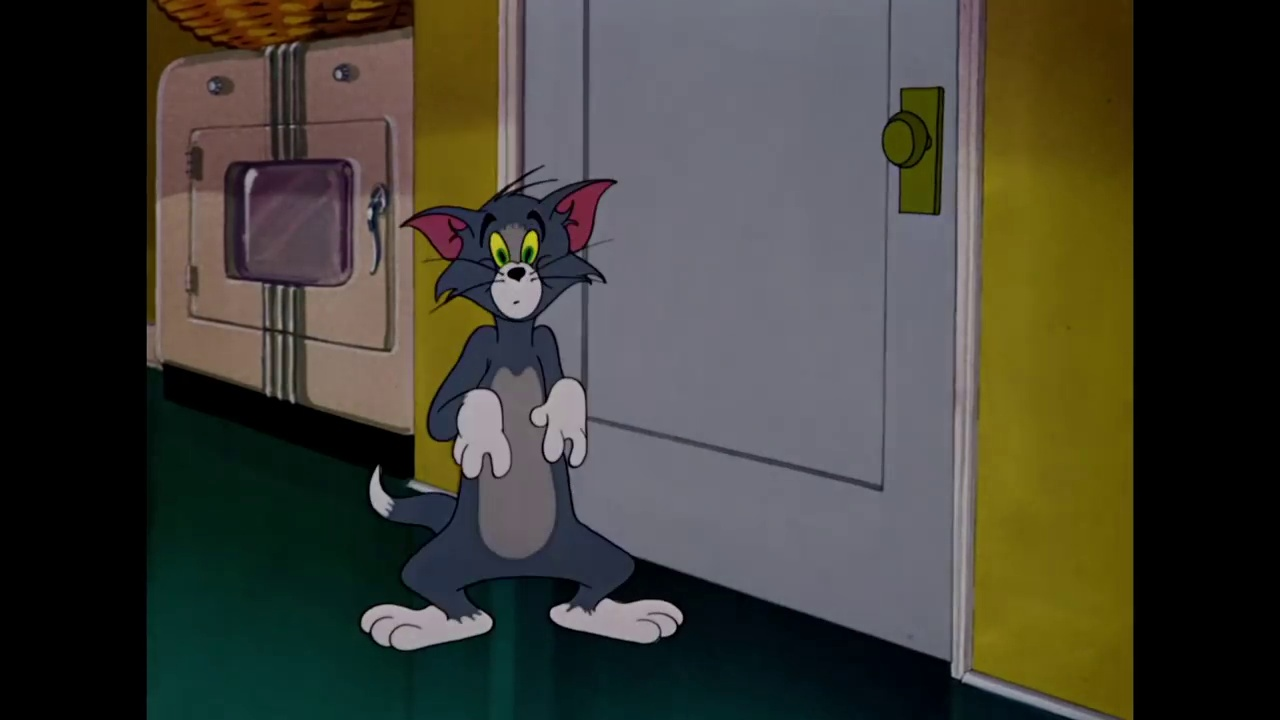tom: (392, 164, 622, 330)
